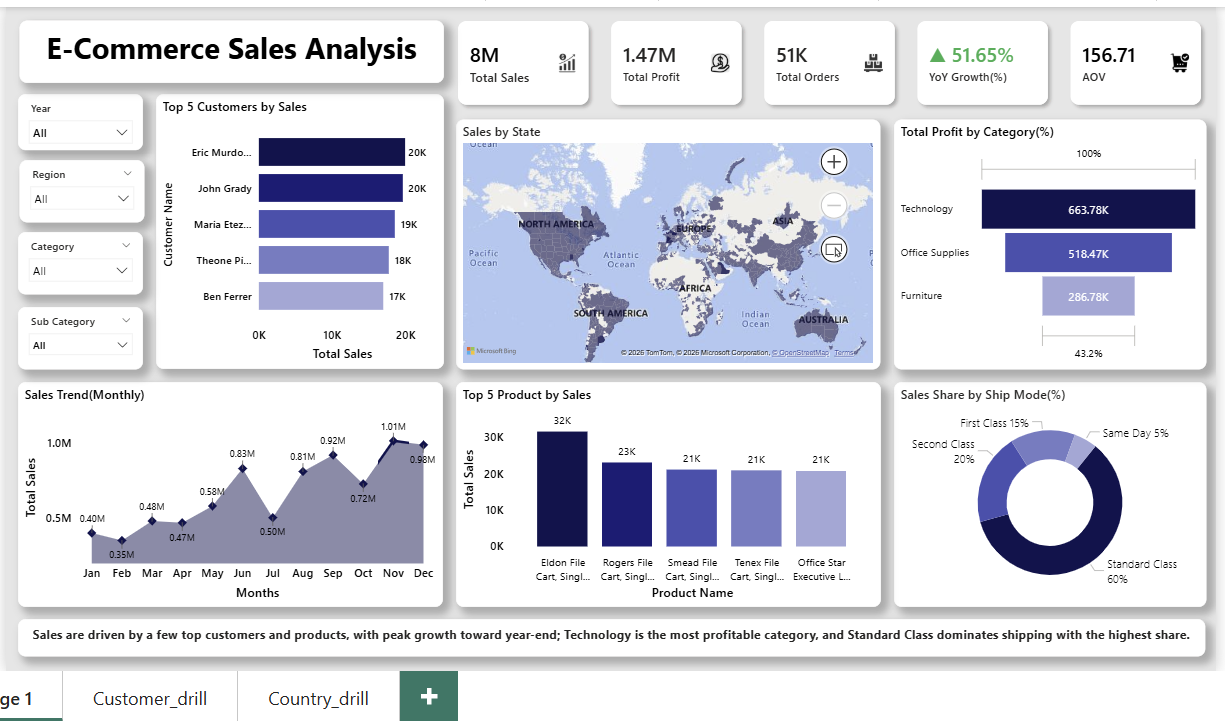

This screenshot's page, from the dashboard's own definition file:
{"tool":"powerbi","page":{"name":"Page 1","canvas":[1550,850],"ordinal":0},"visuals":[{"type":"cardVisual","fields":{"Data":["Sheet1.total_sale","Sheet1.TOTAL_PROFIT","Sheet1.TOTAL_ORDERS","Sheet1.KPI Display","Date Table.AOV"]},"box":[560,0,990,143.3],"z":0},{"type":"filledMap","title":"Sales by State","fields":{"Category":["Sheet1.state","Sheet1.country"]},"box":[576.7,143.3,543.3,320],"z":1000},{"type":"slicer","fields":{"Values":["Date Table.Year"]},"box":[16,112,160,72],"z":2000},{"type":"slicer","title":"Categ","fields":{"Values":["Sheet1.region"]},"box":[16.7,195,160,80],"z":3000},{"type":"barChart","title":"Top 5 Customers by Sales","fields":{"Category":["Sheet1.customer_name"],"Y":["Sheet1.total_sale"]},"box":[191.7,111.7,368.3,351.7],"z":4000},{"type":"areaChart","title":"Sales Trend(Monthly)","fields":{"Category":["Date Table.Month"],"Y":["Sheet1.total_sale"]},"box":[16,480,544,288],"z":5000},{"type":"donutChart","title":"Sales Share by Ship Mode(%)","fields":{"Y":["Sheet1.total_sale"],"Category":["Sheet1.ship_mode"]},"box":[1136,480,400,288],"z":6000},{"type":"textbox","box":[16.7,16.7,543.3,80],"z":7000},{"type":"columnChart","title":"Top 5  Product by Sales","fields":{"Category":["Sheet1.product_name"],"Y":["Sheet1.total_sale"]},"box":[576,480,544,288],"z":8000},{"type":"slicer","fields":{"Values":["Sheet1.category"]},"box":[16,288,160,80],"z":9000},{"type":"slicer","fields":{"Values":["Sheet1.sub_category"]},"box":[16,384,160,80],"z":10000},{"type":"funnel","title":"Total Profit by Category(%)","fields":{"Category":["Sheet1.category"],"Y":["Sheet1.TOTAL_PROFIT"]},"box":[1136,144,400,320],"z":11000},{"type":"textbox","box":[16,784,1520,48],"z":12000}]}

Visuals, with their boxes on the page's 1550x850 design canvas (x1, y1, x2, y2). These are canvas units, not pixel positions in the 1225x721 screenshot, which may show the page scaled, cropped or inside an application window:
cardVisual - Sheet1.total_sale x Sheet1.TOTAL_PROFIT: select_region(560, 0, 1550, 143)
"Sales by State" filledMap: select_region(577, 143, 1120, 463)
slicer - Date Table.Year: select_region(16, 112, 176, 184)
"Categ" slicer: select_region(17, 195, 177, 275)
"Top 5 Customers by Sales" barChart: select_region(192, 112, 560, 463)
"Sales Trend(Monthly)" areaChart: select_region(16, 480, 560, 768)
"Sales Share by Ship Mode(%)" donutChart: select_region(1136, 480, 1536, 768)
textbox: select_region(17, 17, 560, 97)
"Top 5  Product by Sales" columnChart: select_region(576, 480, 1120, 768)
slicer - Sheet1.category: select_region(16, 288, 176, 368)
slicer - Sheet1.sub_category: select_region(16, 384, 176, 464)
"Total Profit by Category(%)" funnel: select_region(1136, 144, 1536, 464)
textbox: select_region(16, 784, 1536, 832)
